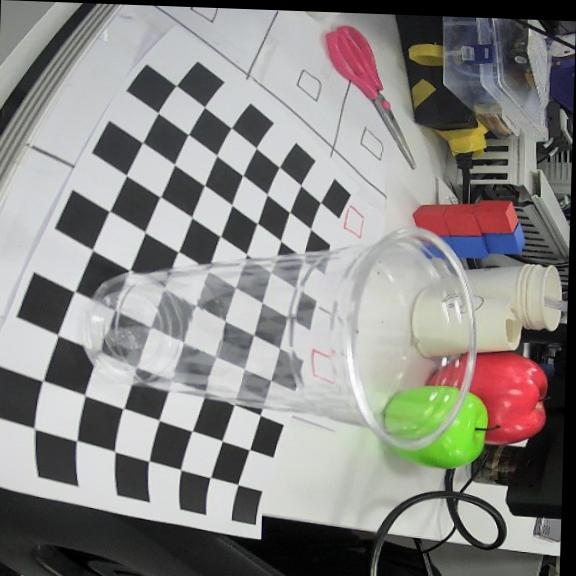Plastik: (85, 228, 474, 449)
